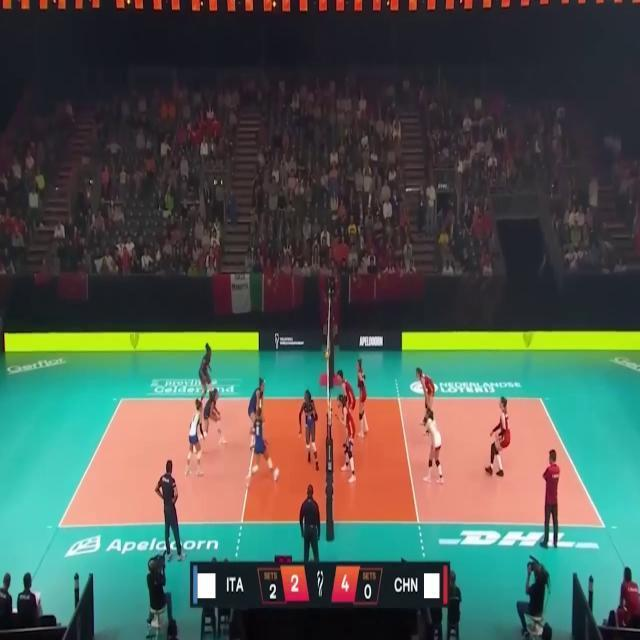volleyball: (322, 346, 332, 359)
